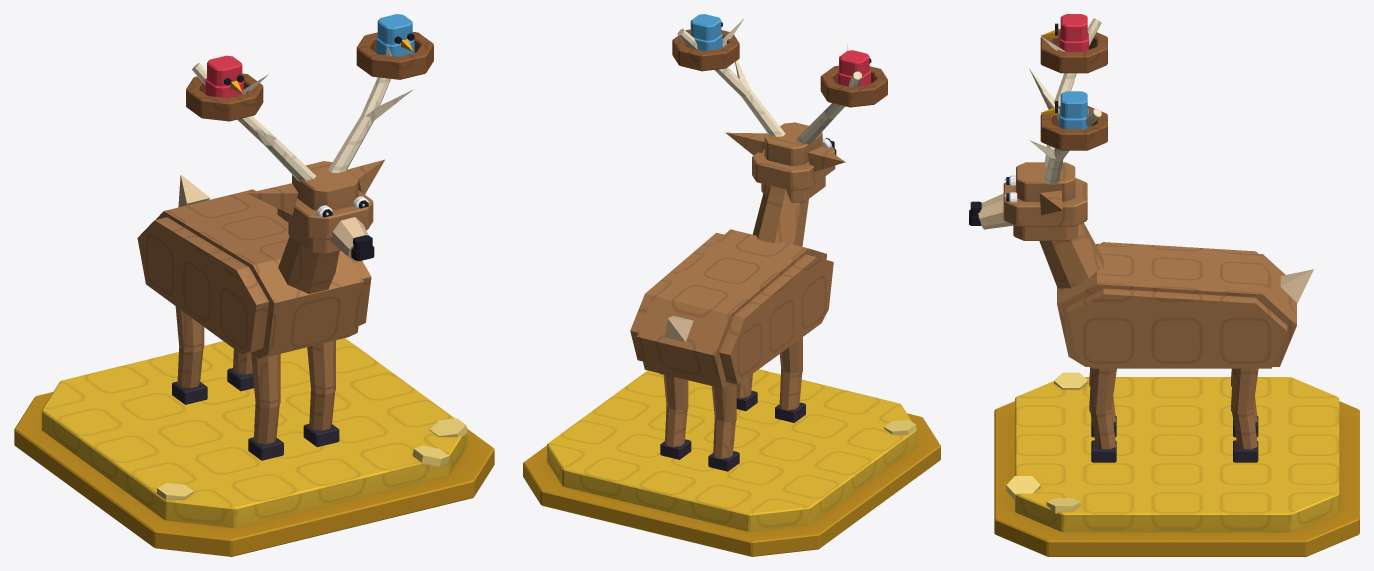
Rendered from NestDeer.fbx.
The picture shows the model from 3 angles, left to right: view 1: azimuth 30°, elevation 25°; view 2: azimuth 150°, elevation 25°; view 3: azimuth 270°, elevation 25°; orthographic projection. The views are drawn at different scales.
Parts seen in each view (by area): view 1: Art_NestDeer_Stand, Art_NestDeer_Body, Art_NestDeer_Head, Art_NestDeer_Antlers, Art_NestDeer_LegFR, Art_NestDeer_LegFL, Art_NestDeer_LegBR, Art_NestDeer_Bird2, Art_NestDeer_Bird1, Art_NestDeer_LegBL; view 2: Art_NestDeer_Stand, Art_NestDeer_Body, Art_NestDeer_Head, Art_NestDeer_Antlers, Art_NestDeer_LegBR, Art_NestDeer_LegBL, Art_NestDeer_LegFR, Art_NestDeer_Bird1, Art_NestDeer_Bird2, Art_NestDeer_LegFL, Art_NestDeer_Tail; view 3: Art_NestDeer_Stand, Art_NestDeer_Body, Art_NestDeer_Head, Art_NestDeer_Antlers, Art_NestDeer_LegFL, Art_NestDeer_LegBL, Art_NestDeer_Bird1, Art_NestDeer_Bird2, Art_NestDeer_Tail.
Boxes of the visible parts, bbox=[...] form: Art_NestDeer_Stand: bbox=[14, 338, 494, 556]; Art_NestDeer_Body: bbox=[137, 189, 371, 358]; Art_NestDeer_Head: bbox=[247, 159, 384, 293]; Art_NestDeer_Antlers: bbox=[186, 32, 433, 181]; Art_NestDeer_LegFR: bbox=[248, 354, 283, 460]; Art_NestDeer_LegFL: bbox=[303, 340, 339, 447]; Art_NestDeer_LegBR: bbox=[172, 306, 207, 404]; Art_NestDeer_Bird2: bbox=[205, 55, 244, 98]; Art_NestDeer_Bird1: bbox=[376, 14, 414, 56]; Art_NestDeer_LegBL: bbox=[227, 349, 254, 391]; Art_NestDeer_Stand: bbox=[523, 369, 940, 556]; Art_NestDeer_Body: bbox=[630, 229, 833, 388]; Art_NestDeer_Head: bbox=[725, 122, 845, 246]; Art_NestDeer_Antlers: bbox=[672, 18, 887, 144]; Art_NestDeer_LegBR: bbox=[708, 383, 739, 471]; Art_NestDeer_LegBL: bbox=[660, 374, 691, 459]; Art_NestDeer_LegFR: bbox=[775, 337, 805, 422]; Art_NestDeer_Bird1: bbox=[689, 14, 722, 50]; Art_NestDeer_Bird2: bbox=[837, 50, 871, 86]; Art_NestDeer_LegFL: bbox=[736, 374, 757, 411]; Art_NestDeer_Tail: bbox=[665, 315, 693, 341]; Art_NestDeer_Stand: bbox=[994, 372, 1359, 556]; Art_NestDeer_Body: bbox=[1057, 242, 1296, 368]; Art_NestDeer_Head: bbox=[969, 162, 1103, 288]; Art_NestDeer_Antlers: bbox=[1029, 18, 1107, 184]; Art_NestDeer_LegFL: bbox=[1089, 368, 1116, 462]; Art_NestDeer_LegBL: bbox=[1231, 368, 1258, 462]; Art_NestDeer_Bird1: bbox=[1040, 91, 1088, 129]; Art_NestDeer_Bird2: bbox=[1040, 14, 1088, 51]; Art_NestDeer_Tail: bbox=[1280, 269, 1313, 303].
Bounding box in the file's own units: 3.2 × 4.08 × 3.42.
